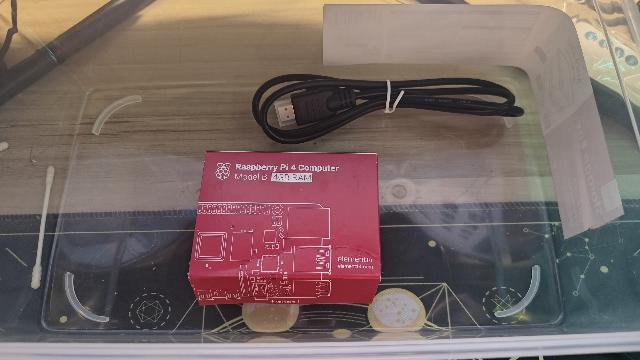hdmi_cable: (248, 71, 525, 145)
rpi_box: (182, 149, 386, 314)
